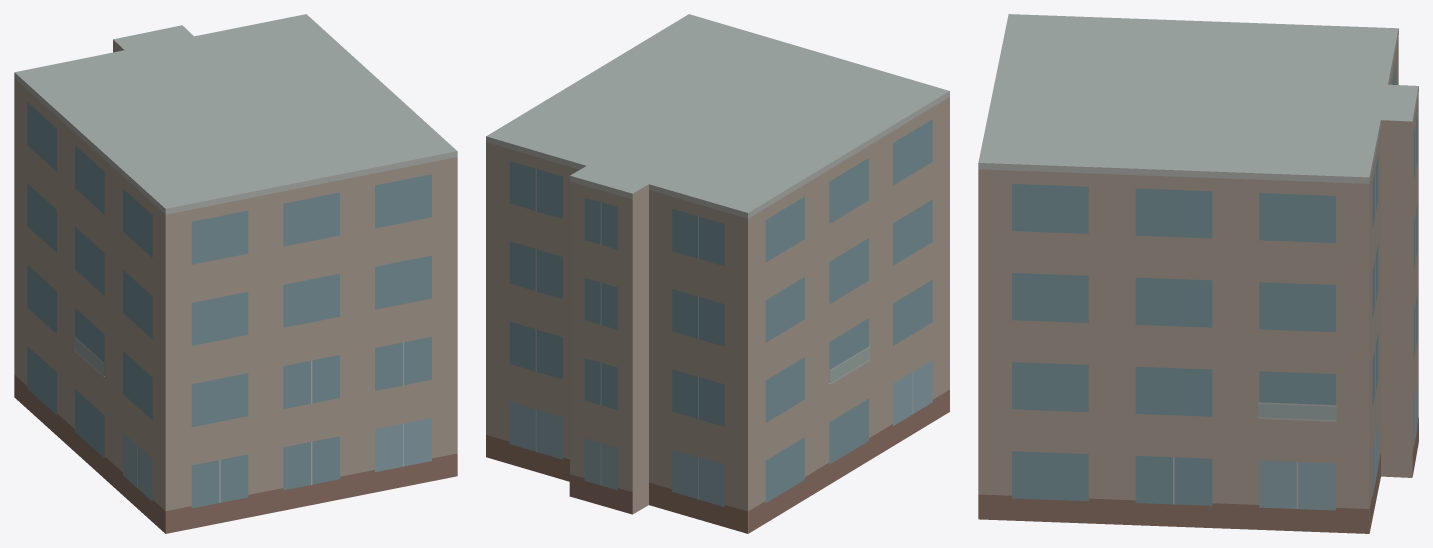
Rendered from survey-upis-32500762.glb.
3 views of the same model, side by side, from view 1: azimuth 30°, elevation 25°; view 2: azimuth 150°, elevation 25°; view 3: azimuth 270°, elevation 25° (orthographic). The views are drawn at different scales.
Visible parts, largest first — view 1: survey-upis-32500762.tmp; view 2: survey-upis-32500762.tmp; view 3: survey-upis-32500762.tmp.
Boxes of the visible parts, x1,y1,x2,y2 form: survey-upis-32500762.tmp: (14,14,457,533); survey-upis-32500762.tmp: (486,14,949,533); survey-upis-32500762.tmp: (978,14,1418,533).
Bounding box in the file's own units: 13.38 × 13.6 × 15.24.
